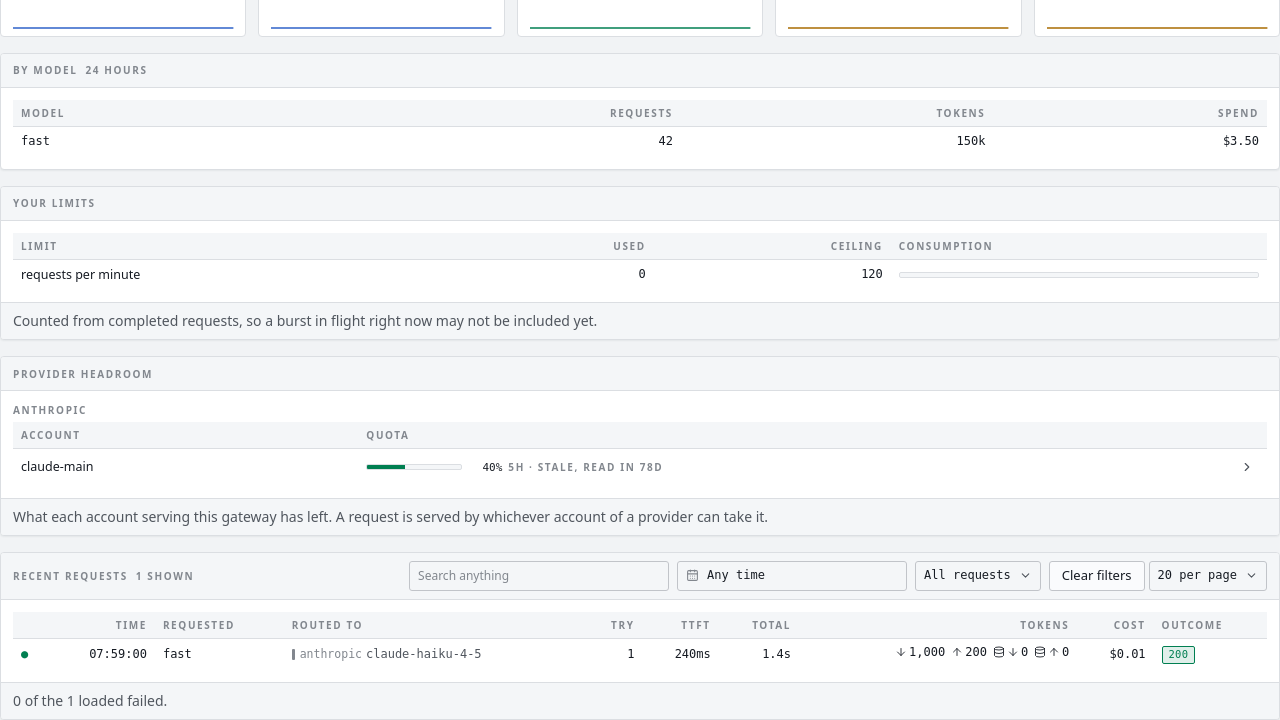
client board renders the console's own views › a stale reading says so instead of charting from it
The width and height of the screenshot is (1280, 720).
(page scrolled)
What coordinates should you click on to do the following:
click the button named "Show quota history for claude-main"
I would click on:
 (1247, 467)
Its box is [1235, 455, 1259, 479].
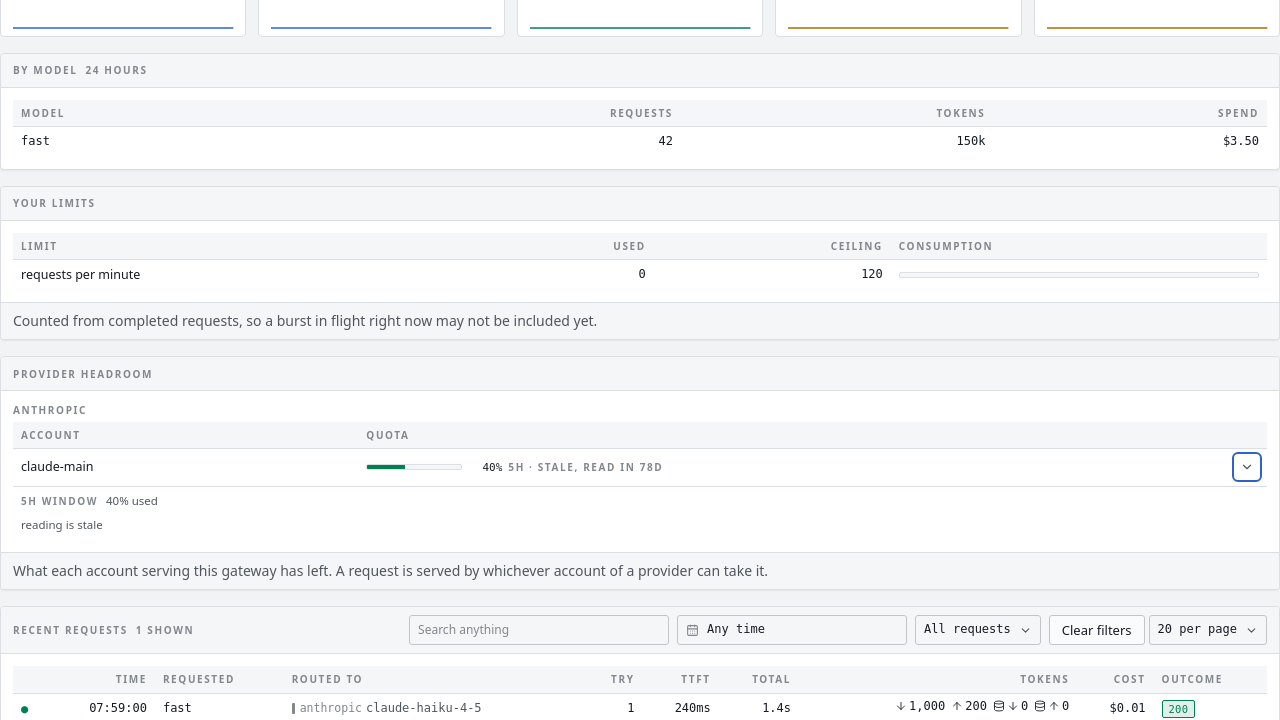
Check: the text "reading is stale" is shown, box [21, 517, 103, 532]
